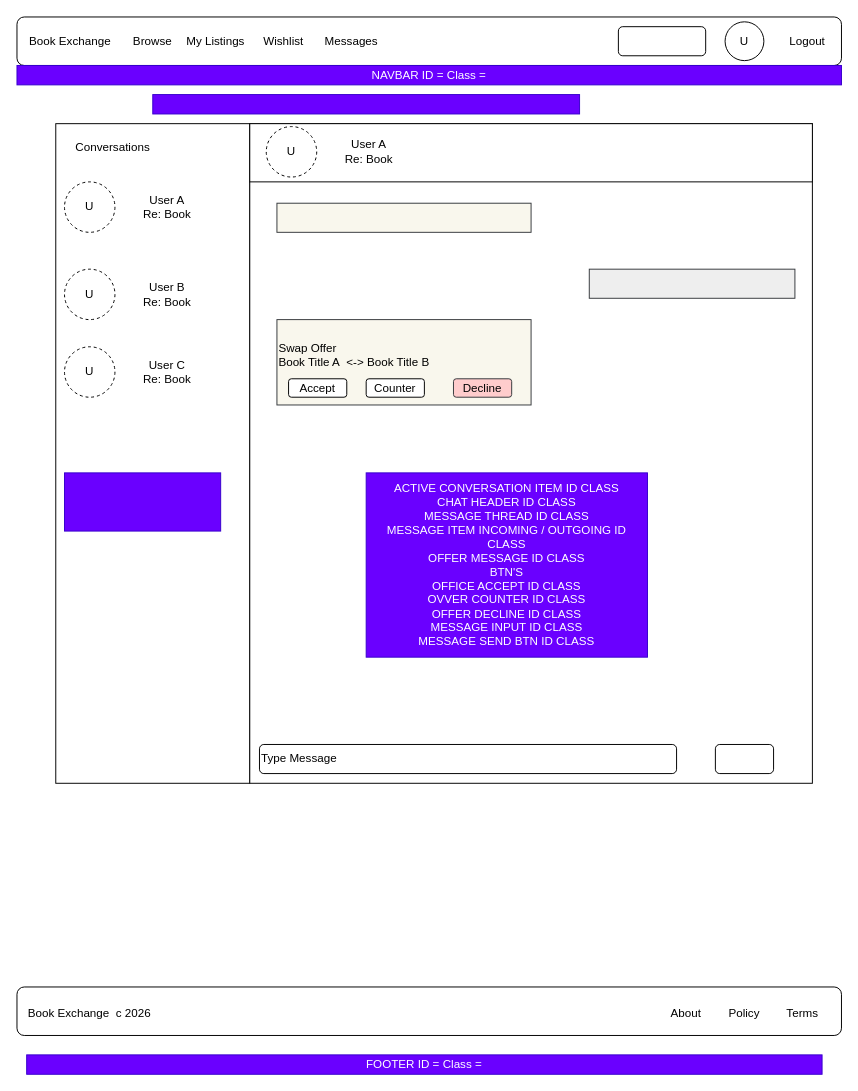
Image size: 858x1091. Some labels were removed from this diagram. Here are the shapes that lost their labels. From the top down, the box of each, then its label:
(617, 26, 706, 56): Notifications
(152, 94, 580, 114): MESSAGE PAGE ID CLASS
(276, 202, 531, 232): Hello, still interested in swapping books?
(588, 268, 795, 298): Yes! What condition is your book in?
(64, 472, 221, 531): CONVERSATION LIST ID CLASS
(714, 744, 774, 774): Send
